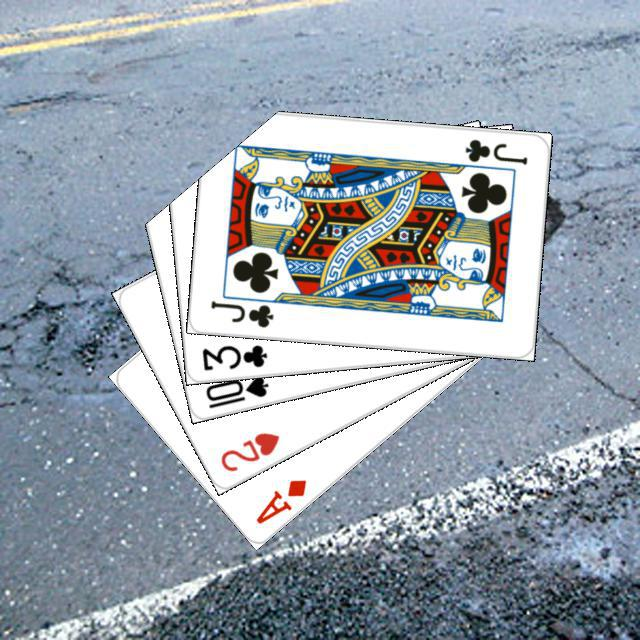10s: (200, 371, 270, 410)
2h: (215, 427, 281, 474)
3c: (197, 339, 269, 372)
Ad: (250, 474, 308, 526)
Jc: (205, 295, 275, 330), (460, 134, 530, 166)
